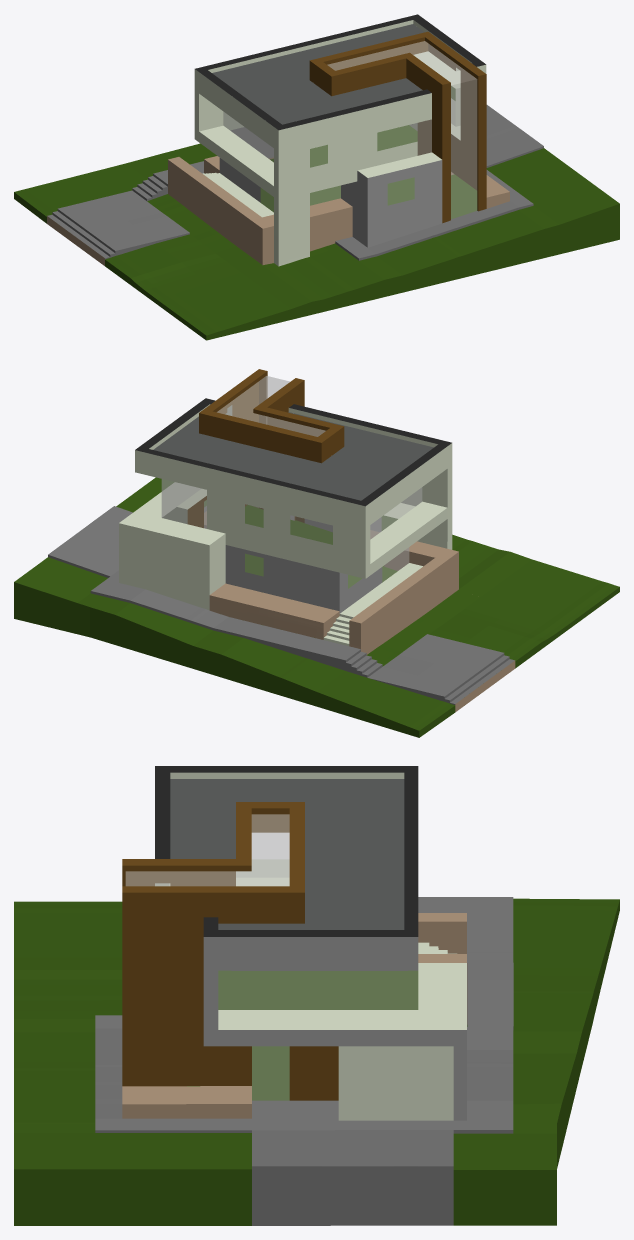
The model's file is casaClim_OUTTER-SHELL.glb.
The picture shows the model from 3 angles, top to bottom: view 1: azimuth 30°, elevation 25°; view 2: azimuth 150°, elevation 25°; view 3: azimuth 270°, elevation 25°; orthographic projection. The views are drawn at different scales.
Visible parts, largest first — view 1: Plane; view 2: Plane; view 3: Plane.
Boxes of the visible parts, x1,y1,x2,y2 form: Plane: [14, 14, 619, 340]; Plane: [14, 369, 619, 737]; Plane: [14, 766, 619, 1225].
Size of the model in its own units: 27.7 by 10.52 by 22.42.
